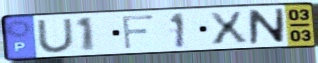1: (74, 15, 97, 54), (167, 11, 189, 49)
F: (120, 13, 156, 51)
N: (246, 7, 286, 46)
U: (35, 17, 77, 54)
X: (205, 10, 250, 47)
